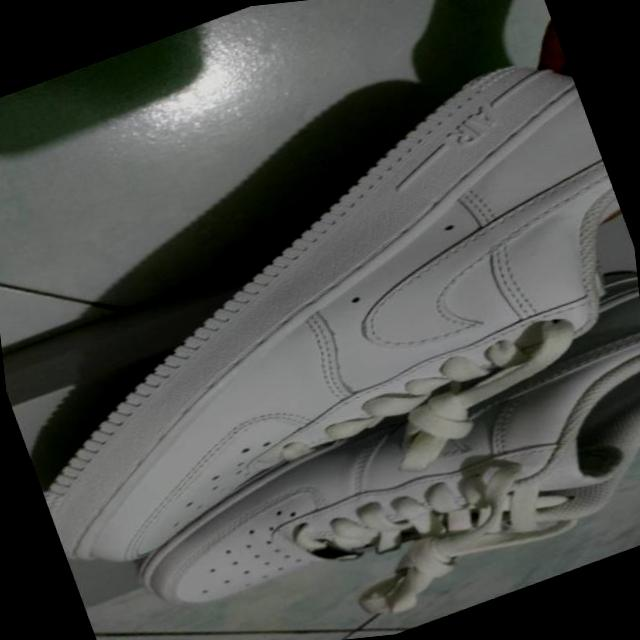nike_original_airforce: (0, 33, 640, 586), (49, 308, 640, 640)
